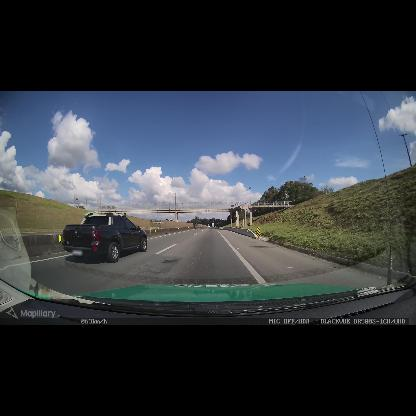O-MP: (257, 227, 260, 236)
